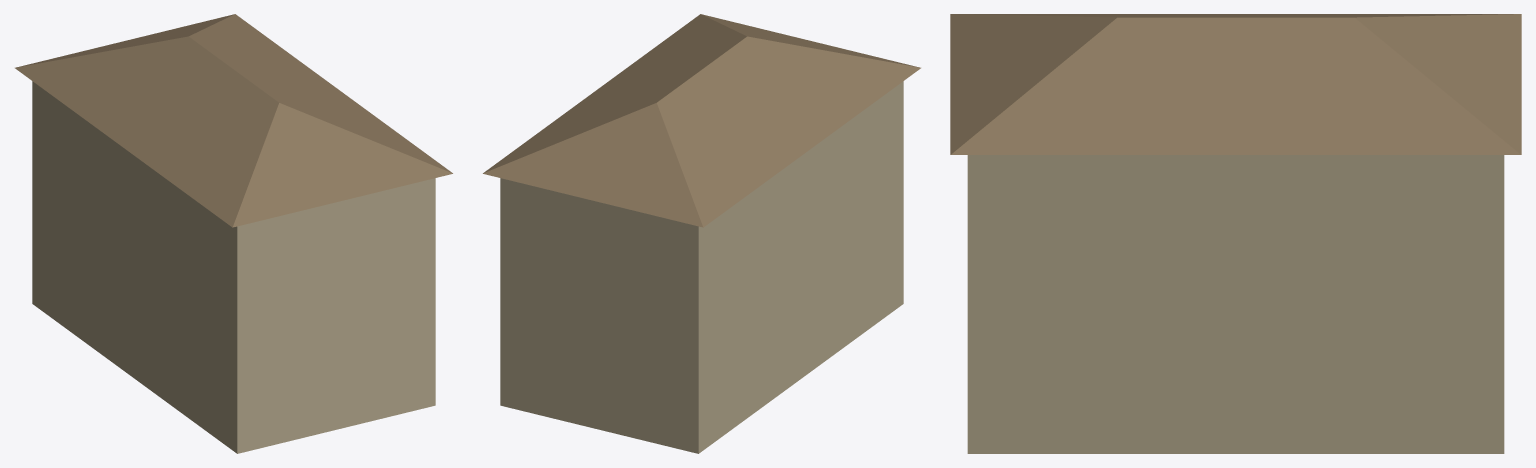
The model's file is home-cream.glb.
3 views of the same model, side by side, from view 1: azimuth 30°, elevation 25°; view 2: azimuth 150°, elevation 25°; view 3: azimuth 270°, elevation 25° (orthographic). The views are drawn at different scales.
Visible parts, largest first — view 1: home-cream; view 2: home-cream; view 3: home-cream.
Part boxes in pixels (<box>): home-cream: <box>15,14,452,453</box>; home-cream: <box>483,14,920,453</box>; home-cream: <box>950,14,1521,453</box>.
Bounding box in the file's own units: 6.85 × 8.44 × 11.71.
